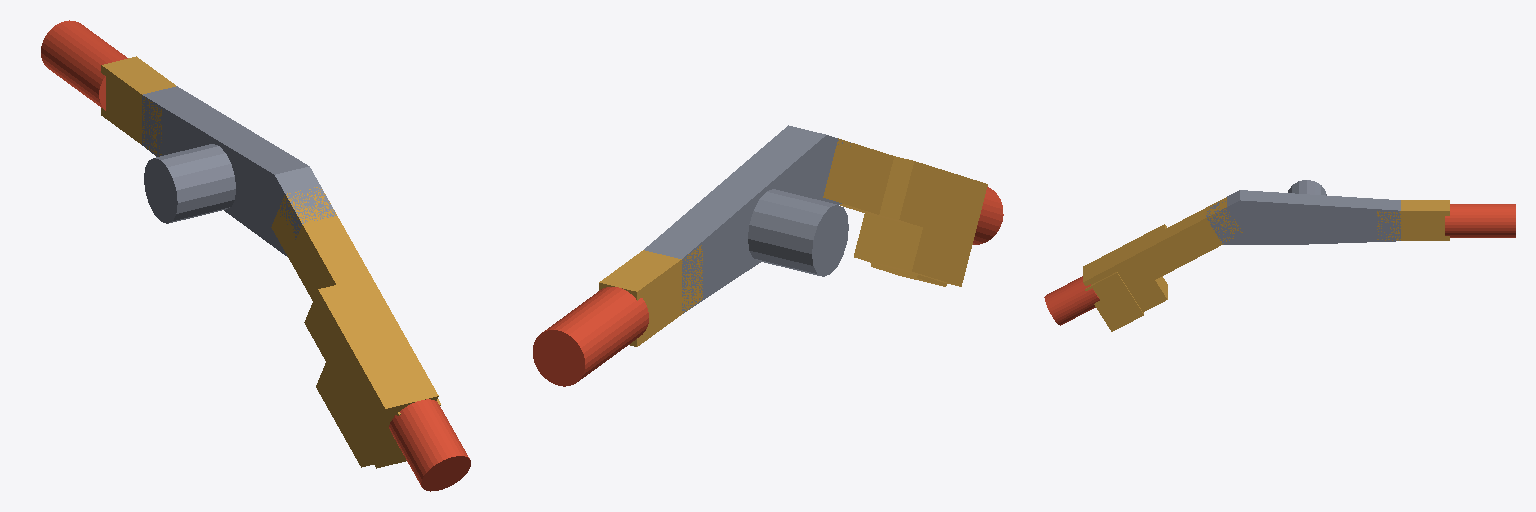
robot.urdf — g0071_c05:
<robot name="g0071_c05">
  <link name="palm">
    <visual name="palm_palm1">
      <origin xyz="0 0 0" rpy="0 0 0" />
      <geometry>
        <mesh filename="palm_palm1.obj" />
      </geometry>
      <material name="palm_palm1_mat">
        <color rgba="0.55 0.57 0.62 1" />
      </material>
    </visual>
    <collision>
      <origin xyz="0 0 0" rpy="0 0 0" />
      <geometry>
        <mesh filename="palm_palm1.obj" />
      </geometry>
    </collision>
    <visual name="palm_mount2">
      <origin xyz="0 0 0" rpy="0 0 0" />
      <geometry>
        <mesh filename="palm_mount2.obj" />
      </geometry>
      <material name="palm_mount2_mat">
        <color rgba="0.55 0.57 0.62 1" />
      </material>
    </visual>
    <collision>
      <origin xyz="0 0 0" rpy="0 0 0" />
      <geometry>
        <mesh filename="palm_mount2.obj" />
      </geometry>
    </collision>
    <visual name="palm_motor3">
      <origin xyz="0 -0.0735048095 0.00375" rpy="1.57079633 -1.04719755 -1.57079633" />
      <geometry>
        <box size="0.029 0.034 0.02" />
      </geometry>
      <material name="palm_motor3_mat">
        <color rgba="0.15 0.15 0.17 1" />
      </material>
    </visual>
    <collision>
      <origin xyz="0 -0.0735048095 0.00375" rpy="1.57079633 -1.04719755 -1.57079633" />
      <geometry>
        <box size="0.029 0.034 0.02" />
      </geometry>
    </collision>
    <visual name="palm_motor4">
      <origin xyz="0 0.0725 -4.5924255e-19" rpy="-3.14159265 1.57079633 0" />
      <geometry>
        <box size="0.029 0.034 0.02" />
      </geometry>
      <material name="palm_motor4_mat">
        <color rgba="0.15 0.15 0.17 1" />
      </material>
    </visual>
    <collision>
      <origin xyz="0 0.0725 -4.5924255e-19" rpy="-3.14159265 1.57079633 0" />
      <geometry>
        <box size="0.029 0.034 0.02" />
      </geometry>
    </collision>
    <inertial>
      <origin xyz="7.89881858e-19 -0.00335597355 0.00163381517" rpy="1.57079633 0.0168508446 1.57079633" />
      <mass value="0.312769908" />
      <inertia ixx="5.96751198e-05" ixy="0" ixz="0" iyy="0.000832700713" iyz="0" izz="0.000862349922" />
    </inertial>
  </link>
  <link name="f0_link0">
    <visual name="f0_link0_link1">
      <origin xyz="0.03375 0 0" rpy="0 -3.98552134e-18 0" />
      <geometry>
        <box size="0.0915 0.024 0.033" />
      </geometry>
      <material name="f0_link0_link1_mat">
        <color rgba="0.80 0.62 0.30 1" />
      </material>
    </visual>
    <collision>
      <origin xyz="0.03375 0 0" rpy="0 -3.98552134e-18 0" />
      <geometry>
        <box size="0.0915 0.024 0.033" />
      </geometry>
    </collision>
    <inertial>
      <origin xyz="0.03375 0 0" rpy="0 0 0" />
      <mass value="0.126819" />
      <inertia ixx="1.75961363e-05" ixy="0" ixz="0" iyy="9.99888553e-05" iyz="0" izz="9.45673431e-05" />
    </inertial>
  </link>
  <link name="f0_link1">
    <visual name="f0_link1_link1">
      <origin xyz="0.014 -0.00625 -6.9388939e-18" rpy="0 -3.98552134e-18 0" />
      <geometry>
        <box size="0.052 0.0365 0.033" />
      </geometry>
      <material name="f0_link1_link1_mat">
        <color rgba="0.80 0.62 0.30 1" />
      </material>
    </visual>
    <collision>
      <origin xyz="0.014 -0.00625 -6.9388939e-18" rpy="0 -3.98552134e-18 0" />
      <geometry>
        <box size="0.052 0.0365 0.033" />
      </geometry>
    </collision>
    <inertial>
      <origin xyz="0.014 -0.00625 0" rpy="0 0 0" />
      <mass value="0.1096095" />
      <inertia ixx="2.21160002e-05" ixy="0" ixz="0" iyy="3.46457361e-05" iyz="0" izz="3.6867612e-05" />
    </inertial>
  </link>
  <link name="f0_link2">
    <visual name="f0_link2_link1">
      <origin xyz="0.019 -0.00625 -0.01225" rpy="0 -3.98552134e-18 0" />
      <geometry>
        <box size="0.062 0.0365 0.0575" />
      </geometry>
      <material name="f0_link2_link1_mat">
        <color rgba="0.80 0.62 0.30 1" />
      </material>
    </visual>
    <collision>
      <origin xyz="0.019 -0.00625 -0.01225" rpy="0 -3.98552134e-18 0" />
      <geometry>
        <box size="0.062 0.0365 0.0575" />
      </geometry>
    </collision>
    <inertial>
      <origin xyz="0.019 -0.00625 -0.01225" rpy="0 0 0" />
      <mass value="0.227714375" />
      <inertia ixx="8.8021094e-05" ixy="0" ixz="0" iyy="0.000135684559" iyz="0" izz="9.82255445e-05" />
    </inertial>
  </link>
  <link name="f0_link3">
    <visual name="f0_link3_link1">
      <origin xyz="-0.00625 0 -0.0165" rpy="0 -3.98552134e-18 0" />
      <geometry>
        <box size="0.0365 0.029 0.053" />
      </geometry>
      <material name="f0_link3_link1_mat">
        <color rgba="0.80 0.62 0.30 1" />
      </material>
    </visual>
    <collision>
      <origin xyz="-0.00625 0 -0.0165" rpy="0 -3.98552134e-18 0" />
      <geometry>
        <box size="0.0365 0.029 0.053" />
      </geometry>
    </collision>
    <inertial>
      <origin xyz="-0.00625 0 -0.0165" rpy="0 0 0" />
      <mass value="0.098175875" />
      <inertia ixx="2.98618286e-05" ixy="0" ixz="0" iyy="3.38809035e-05" iyz="0" izz="1.778006e-05" />
    </inertial>
  </link>
  <link name="f0_link4">
    <visual name="f0_link4_link1">
      <origin xyz="0.029 0 3.46944695e-18" rpy="-1.57079633 -0 -1.57079633" />
      <geometry>
        <cylinder radius="0.0165" length="0.049" />
      </geometry>
      <material name="f0_link4_link1_mat">
        <color rgba="0.85 0.35 0.25 1" />
      </material>
    </visual>
    <collision>
      <origin xyz="0.029 0 3.46944695e-18" rpy="-1.57079633 -0 -1.57079633" />
      <geometry>
        <cylinder radius="0.0165" length="0.049" />
      </geometry>
    </collision>
    <inertial>
      <origin xyz="0.029 0 0" rpy="0 0 0" />
      <mass value="0.106270851" />
      <inertia ixx="1.35696277e-05" ixy="0" ixz="0" iyy="5.30015704e-05" iyz="0" izz="5.30015704e-05" />
    </inertial>
  </link>
  <link name="f1_link0">
    <visual name="f1_link0_link1">
      <origin xyz="0.02375 0 7.70371978e-34" rpy="0 -0 0" />
      <geometry>
        <box size="0.0715 0.024 0.033" />
      </geometry>
      <material name="f1_link0_link1_mat">
        <color rgba="0.80 0.62 0.30 1" />
      </material>
    </visual>
    <collision>
      <origin xyz="0.02375 0 7.70371978e-34" rpy="0 -0 0" />
      <geometry>
        <box size="0.0715 0.024 0.033" />
      </geometry>
    </collision>
    <inertial>
      <origin xyz="0.02375 0 0" rpy="0 0 0" />
      <mass value="0.099099" />
      <inertia ixx="1.37499863e-05" ixy="0" ixz="0" iyy="5.12114728e-05" iyz="0" izz="4.69749906e-05" />
    </inertial>
  </link>
  <link name="f1_link1">
    <visual name="f1_link1_link1">
      <origin xyz="0.039 0 -7.70371978e-34" rpy="-1.57079633 -0 -1.57079633" />
      <geometry>
        <cylinder radius="0.0165" length="0.069" />
      </geometry>
      <material name="f1_link1_link1_mat">
        <color rgba="0.85 0.35 0.25 1" />
      </material>
    </visual>
    <collision>
      <origin xyz="0.039 0 -7.70371978e-34" rpy="-1.57079633 -0 -1.57079633" />
      <geometry>
        <cylinder radius="0.0165" length="0.069" />
      </geometry>
    </collision>
    <inertial>
      <origin xyz="0.039 0 0" rpy="0 0 0" />
      <mass value="0.136206302" />
      <inertia ixx="1.76445909e-05" ixy="0" ixz="0" iyy="0.000104842911" iyz="0" izz="0.000104842911" />
    </inertial>
  </link>
  <joint name="f0_j0" type="revolute">
    <parent link="palm" />
    <child link="f0_link0" />
    <origin xyz="0 -0.08 0" rpy="0 0.523598776 -1.57079633" />
    <axis xyz="0 0 1" />
    <limit effort="0.5" lower="-0.523598776" upper="1.57079633" velocity="5" />
    <dynamics damping="0.0775033" friction="0" />
  </joint>
  <joint name="f0_j1" type="revolute">
    <parent link="f0_link0" />
    <child link="f0_link1" />
    <origin xyz="0.07 0 0" rpy="0 0 0" />
    <axis xyz="0 0 1" />
    <limit effort="0.5" lower="-0.523598776" upper="1.57079633" velocity="5" />
    <dynamics damping="0.0775033" friction="0" />
  </joint>
  <joint name="f0_j2" type="revolute">
    <parent link="f0_link1" />
    <child link="f0_link2" />
    <origin xyz="0.03 0 0" rpy="0 0 0" />
    <axis xyz="0 0 1" />
    <limit effort="0.5" lower="-0.523598776" upper="1.57079633" velocity="5" />
    <dynamics damping="0.0775033" friction="0" />
  </joint>
  <joint name="f0_j3" type="revolute">
    <parent link="f0_link2" />
    <child link="f0_link3" />
    <origin xyz="0.04 0 0" rpy="0 0 0" />
    <axis xyz="0 0 1" />
    <limit effort="0.5" lower="-0.523598776" upper="1.57079633" velocity="5" />
    <dynamics damping="0.0775033" friction="0" />
  </joint>
  <joint name="f0_j4" type="revolute">
    <parent link="f0_link3" />
    <child link="f0_link4" />
    <origin xyz="0 0 0" rpy="0 0 0" />
    <axis xyz="0 1 6.123234e-17" />
    <limit effort="0.5" lower="-0.523598776" upper="0.523598776" velocity="5" />
    <dynamics damping="0.0775033" friction="0" />
  </joint>
  <joint name="f1_j0" type="revolute">
    <parent link="palm" />
    <child link="f1_link0" />
    <origin xyz="0 0.08 0" rpy="-3.14159265 -6.123234e-17 1.57079633" />
    <axis xyz="0 0 1" />
    <limit effort="0.5" lower="-0.523598776" upper="1.57079633" velocity="5" />
    <dynamics damping="0.0775033" friction="0" />
  </joint>
  <joint name="f1_j1" type="revolute">
    <parent link="f1_link0" />
    <child link="f1_link1" />
    <origin xyz="0.05 0 0" rpy="0 0 0" />
    <axis xyz="0 0 1" />
    <limit effort="0.5" lower="-0.523598776" upper="1.57079633" velocity="5" />
    <dynamics damping="0.0775033" friction="0" />
  </joint>
</robot>

--- Render facts (derived) ---
Views: 3 orthographic renders of the robot side by side, from view 1: azimuth 30°, elevation 25°; view 2: azimuth 150°, elevation 25°; view 3: azimuth 270°, elevation 25°.
Robot: g0071_c05 — 8 links, 7 joints (7 revolute); root link palm; default pose: all joints at 0.
Visible links, largest first — view 1: palm, f0_link2, f0_link0, f0_link4, f1_link1, f0_link1, f1_link0, f0_link3; view 2: palm, f0_link2, f1_link1, f1_link0, f0_link0, f0_link1, f0_link4; view 3: palm, f0_link0, f1_link1, f1_link0, f0_link2, f0_link3, f0_link4, f0_link1.
Boxes of the visible links, bbox=[...] form: palm: bbox=[142, 86, 336, 256]; f0_link2: bbox=[316, 316, 438, 467]; f0_link0: bbox=[271, 187, 386, 312]; f0_link4: bbox=[389, 399, 470, 491]; f1_link1: bbox=[41, 20, 127, 110]; f0_link1: bbox=[304, 278, 404, 389]; f1_link0: bbox=[101, 56, 175, 156]; f0_link3: bbox=[374, 399, 440, 468]; palm: bbox=[644, 125, 850, 313]; f0_link2: bbox=[854, 174, 987, 286]; f1_link1: bbox=[533, 287, 648, 386]; f1_link0: bbox=[599, 245, 702, 346]; f0_link0: bbox=[823, 138, 893, 219]; f0_link1: bbox=[862, 156, 955, 226]; f0_link4: bbox=[973, 187, 1003, 244]; palm: bbox=[1206, 180, 1400, 244]; f0_link0: bbox=[1146, 197, 1242, 274]; f1_link1: bbox=[1445, 204, 1515, 237]; f1_link0: bbox=[1377, 200, 1449, 240]; f0_link2: bbox=[1083, 238, 1167, 312]; f0_link3: bbox=[1085, 272, 1143, 331]; f0_link4: bbox=[1044, 276, 1099, 325]; f0_link1: bbox=[1119, 224, 1179, 289].
Bounding box of the posed robot: 0.0685 × 0.4593 × 0.1408 m (x, y, z).
Meshes: 2 distinct files referenced, 2 mesh visuals loaded (2 OBJ).
